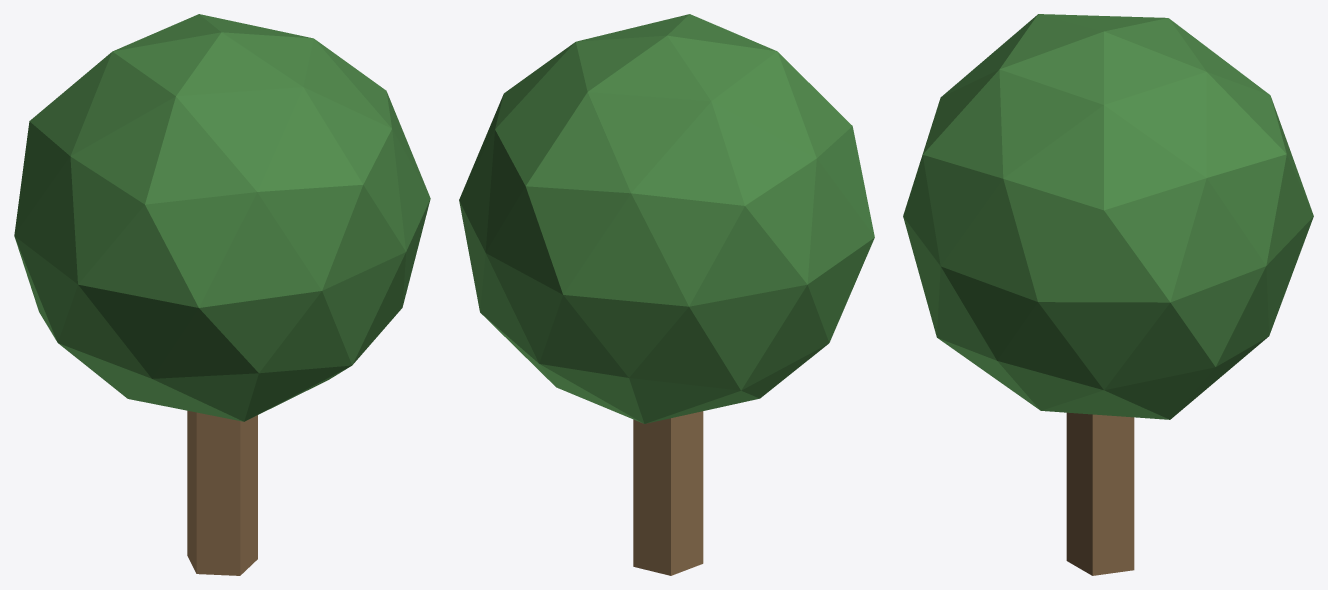
File: round-tree-small.glb
3 views of the same model, side by side, from view 1: azimuth 30°, elevation 25°; view 2: azimuth 150°, elevation 25°; view 3: azimuth 270°, elevation 25° (orthographic).
Visible parts, largest first — view 1: forest-round-tree-small; view 2: forest-round-tree-small; view 3: forest-round-tree-small.
Boxes of the visible parts, x1,y1,x2,y2 form: forest-round-tree-small: (14,14,430,575); forest-round-tree-small: (459,14,874,575); forest-round-tree-small: (903,14,1313,575).
Size of the model in its own units: 0.547 by 0.7834 by 0.5509.
